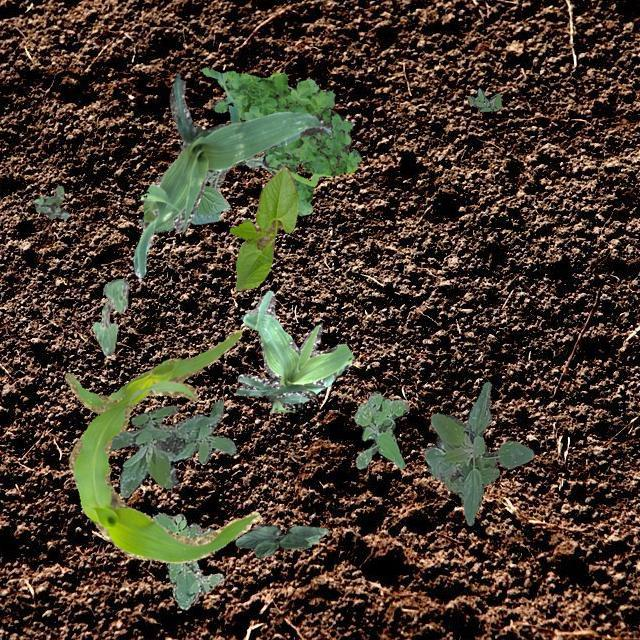crop: (63, 328, 260, 562), (132, 72, 330, 280), (422, 380, 532, 524), (236, 290, 354, 412), (228, 166, 296, 290), (140, 184, 228, 232), (235, 522, 328, 556), (91, 278, 128, 354)
weed: (201, 66, 361, 215), (107, 399, 235, 496), (152, 512, 222, 608), (352, 391, 408, 468), (206, 153, 286, 190), (32, 185, 68, 218), (466, 88, 501, 110)
